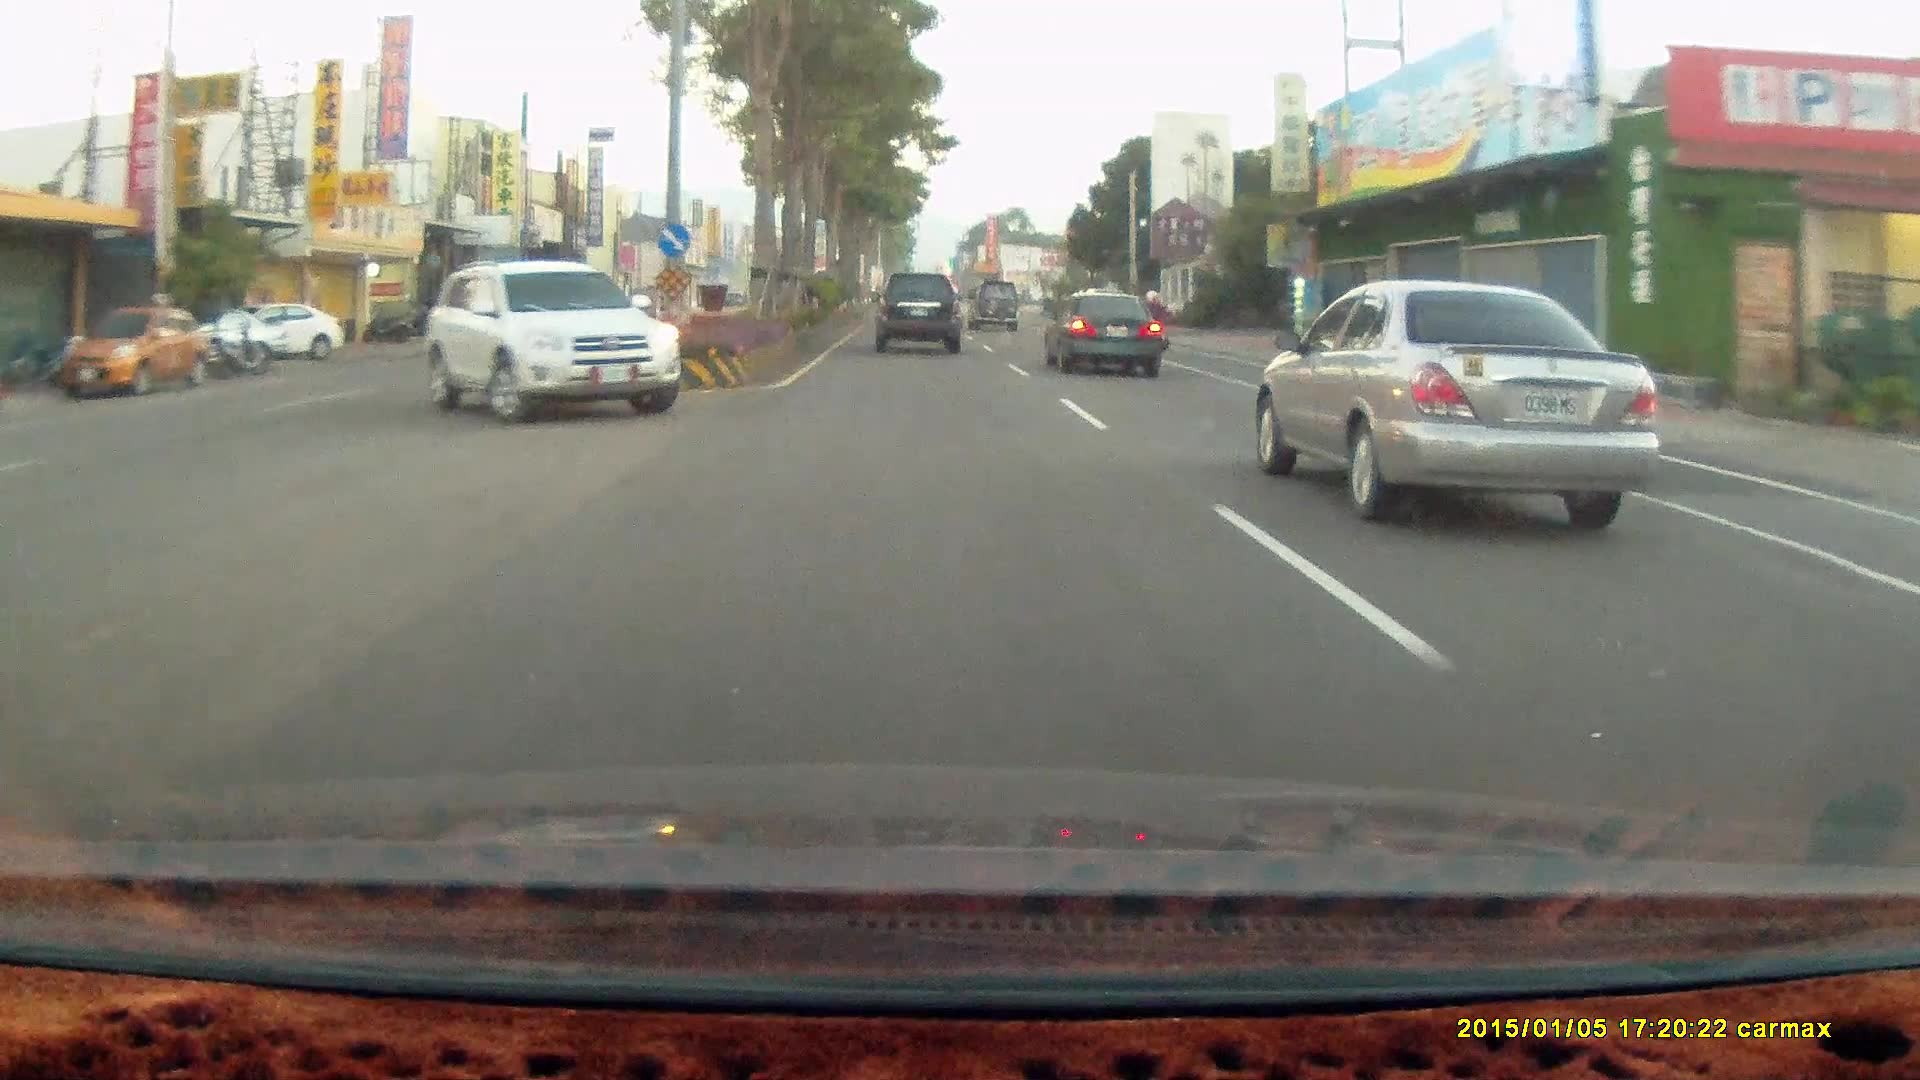vehicle: (1255, 280, 1665, 531), (421, 258, 682, 422), (425, 262, 684, 422), (45, 305, 210, 402), (57, 305, 211, 398), (1040, 289, 1160, 377), (1050, 295, 1168, 382), (214, 302, 344, 365), (874, 273, 968, 360), (219, 302, 344, 365), (876, 276, 963, 355), (969, 281, 1025, 335), (968, 282, 1021, 334)
